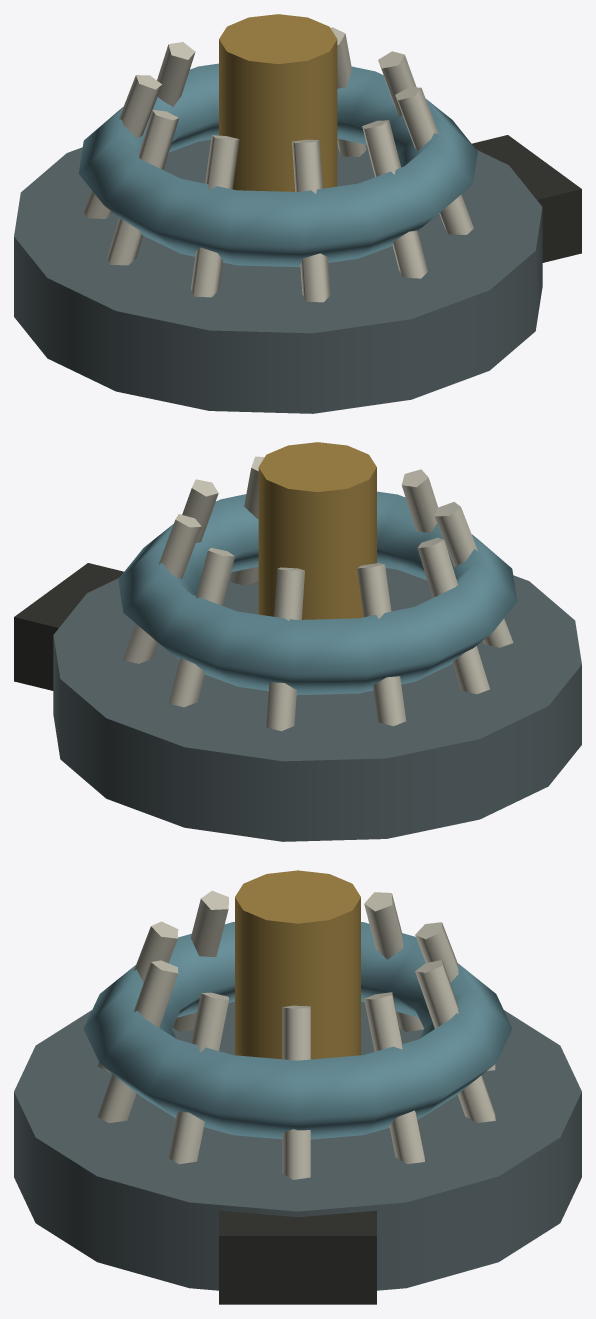
Rendered from custom-wonder-fuzyon.glb.
3 renders of one model, top to bottom at view 1: azimuth 30°, elevation 25°; view 2: azimuth 150°, elevation 25°; view 3: azimuth 270°, elevation 25°, orthographic. The views are drawn at different scales.
Visible parts, largest first — view 1: custom-wonder-fuzyon; view 2: custom-wonder-fuzyon; view 3: custom-wonder-fuzyon.
Boxes of the visible parts, x1=… form: custom-wonder-fuzyon: x1=14, y1=14, x2=581, y2=413; custom-wonder-fuzyon: x1=14, y1=442, x2=581, y2=841; custom-wonder-fuzyon: x1=14, y1=870, x2=581, y2=1304.
Bounding box in the file's own units: 1 × 0.5052 × 0.9278.
